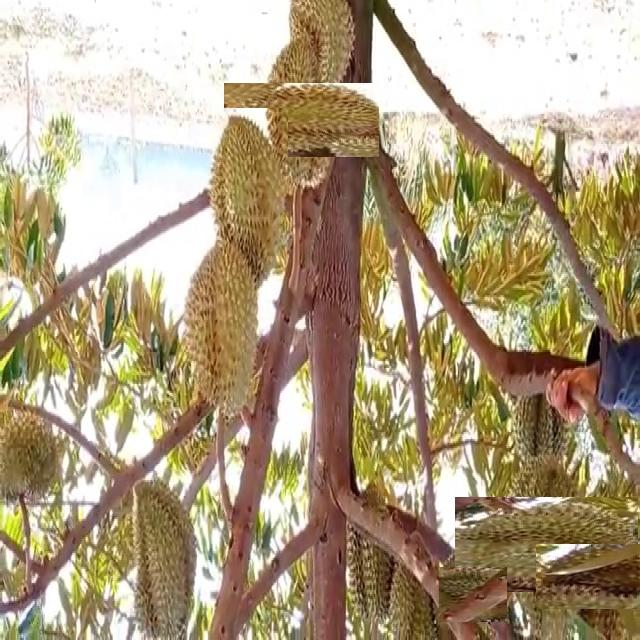durian: (477, 474, 616, 614), (210, 108, 288, 288), (182, 242, 260, 420), (245, 62, 359, 178), (130, 470, 197, 640), (551, 529, 640, 625), (343, 476, 401, 622), (282, 2, 360, 105), (1, 399, 58, 513), (386, 528, 439, 640), (513, 366, 570, 468), (425, 558, 498, 631)
